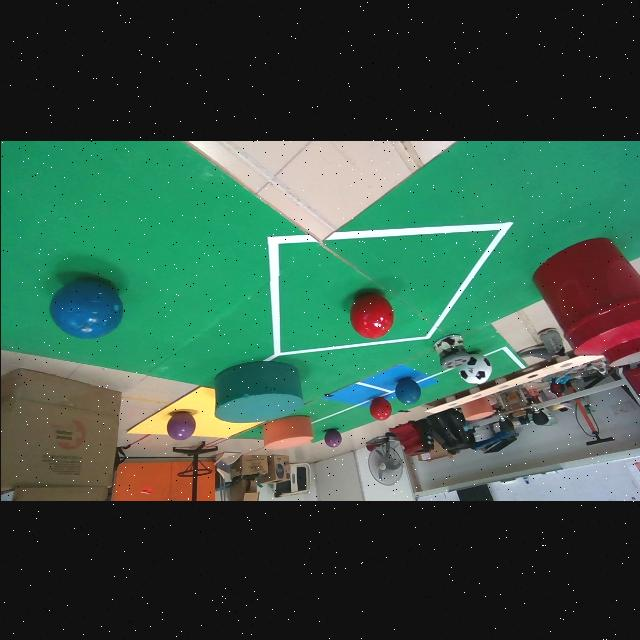B: (49, 279, 122, 338), (394, 377, 420, 404)
P: (167, 411, 195, 439), (324, 428, 341, 446)
R: (349, 293, 394, 338), (368, 397, 391, 419)
